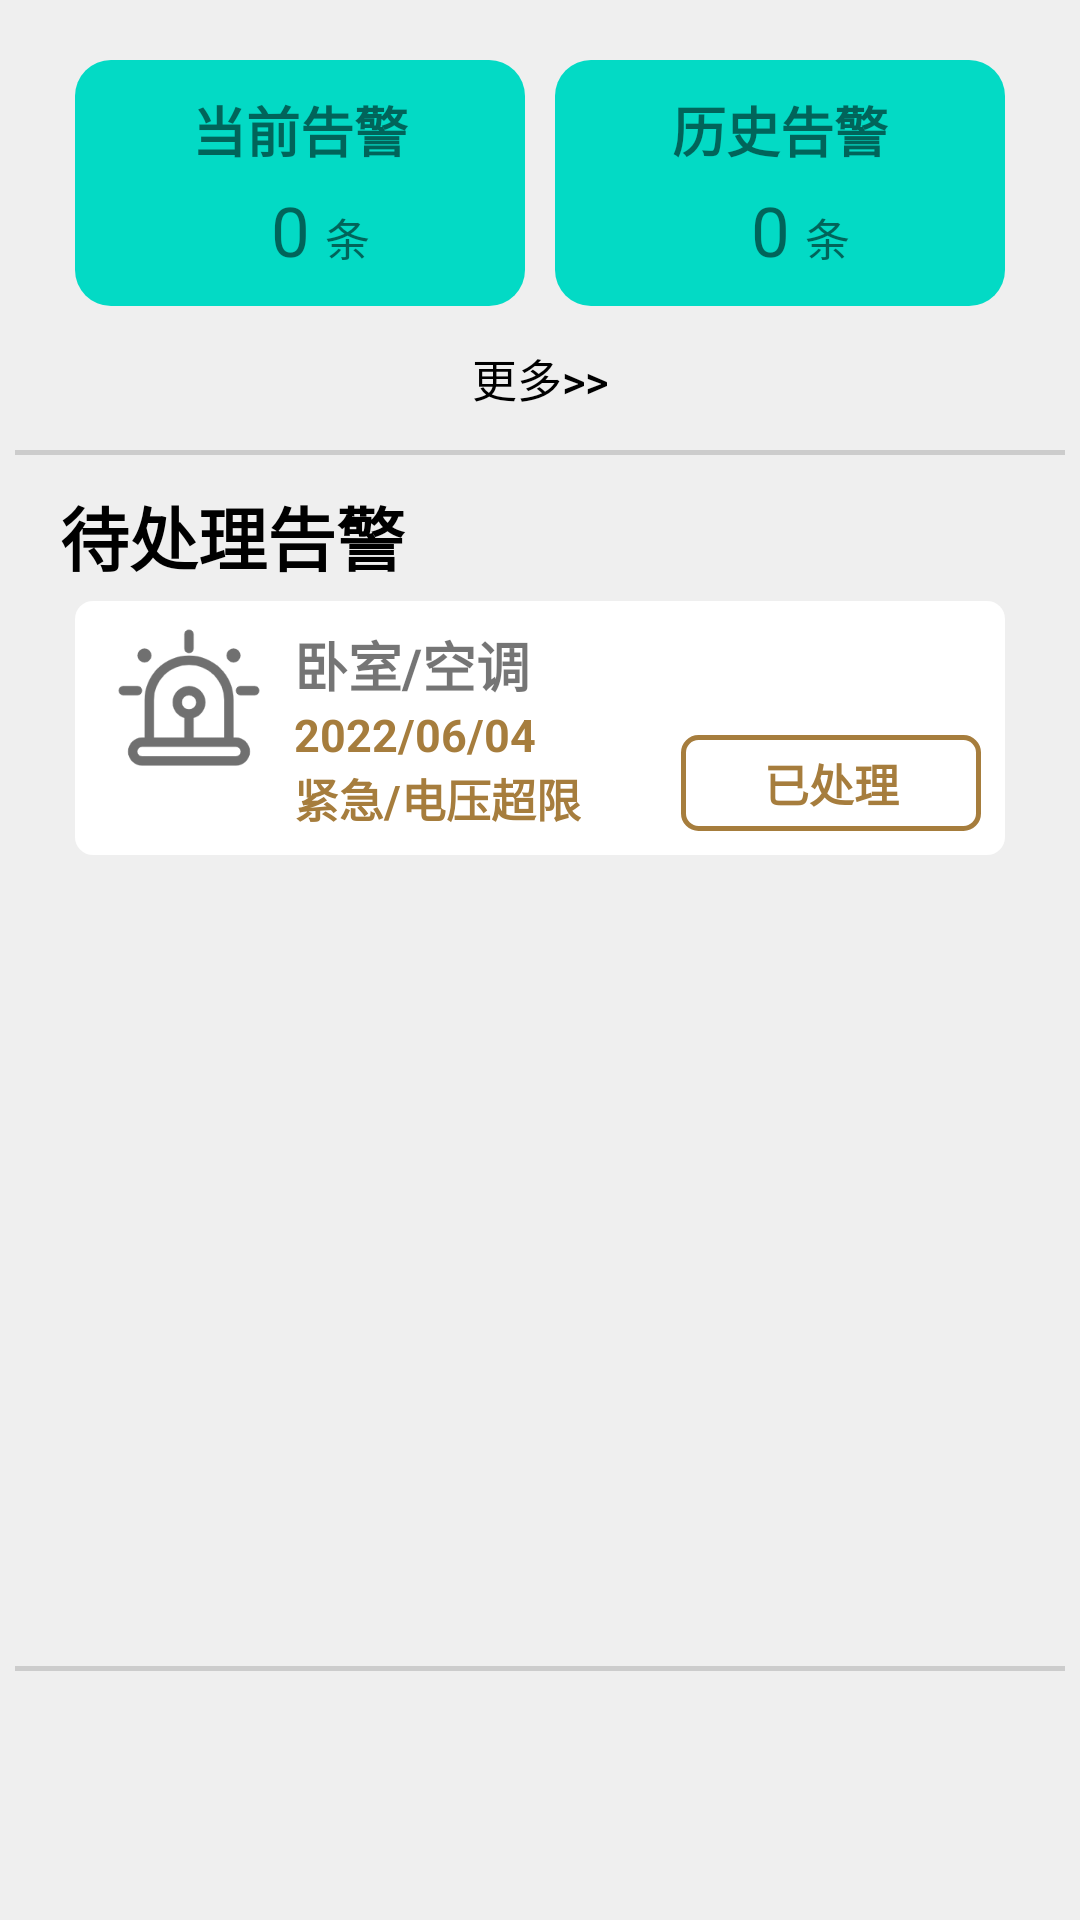

Screen size 1080 × 1920. Icon name, then its box in pixels as (x1, y1, x2, y2):
warning: (118, 629, 260, 766)
